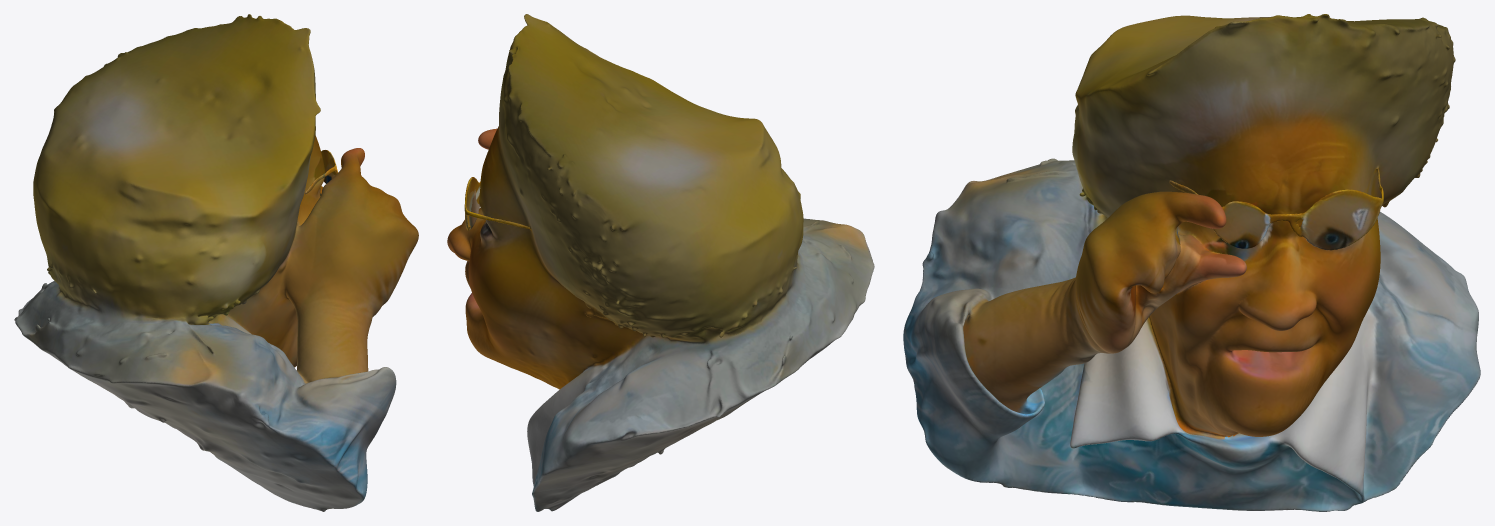
The picture shows the model from 3 angles, left to right: view 1: azimuth 30°, elevation 25°; view 2: azimuth 150°, elevation 25°; view 3: azimuth 270°, elevation 25°; orthographic projection. The views are drawn at different scales.
Visible parts, largest first — view 1: tripo_node_4e1d2278-4d64-49e4-886c-54585fbdafb5; view 2: tripo_node_4e1d2278-4d64-49e4-886c-54585fbdafb5; view 3: tripo_node_4e1d2278-4d64-49e4-886c-54585fbdafb5.
Part boxes in pixels (x1,y1,x2,y2): tripo_node_4e1d2278-4d64-49e4-886c-54585fbdafb5: (14, 14, 418, 511); tripo_node_4e1d2278-4d64-49e4-886c-54585fbdafb5: (447, 14, 874, 511); tripo_node_4e1d2278-4d64-49e4-886c-54585fbdafb5: (903, 14, 1480, 511).
Bounding box in the file's own units: 82.78 × 100 × 98.2.
1 material, 1 textured.
